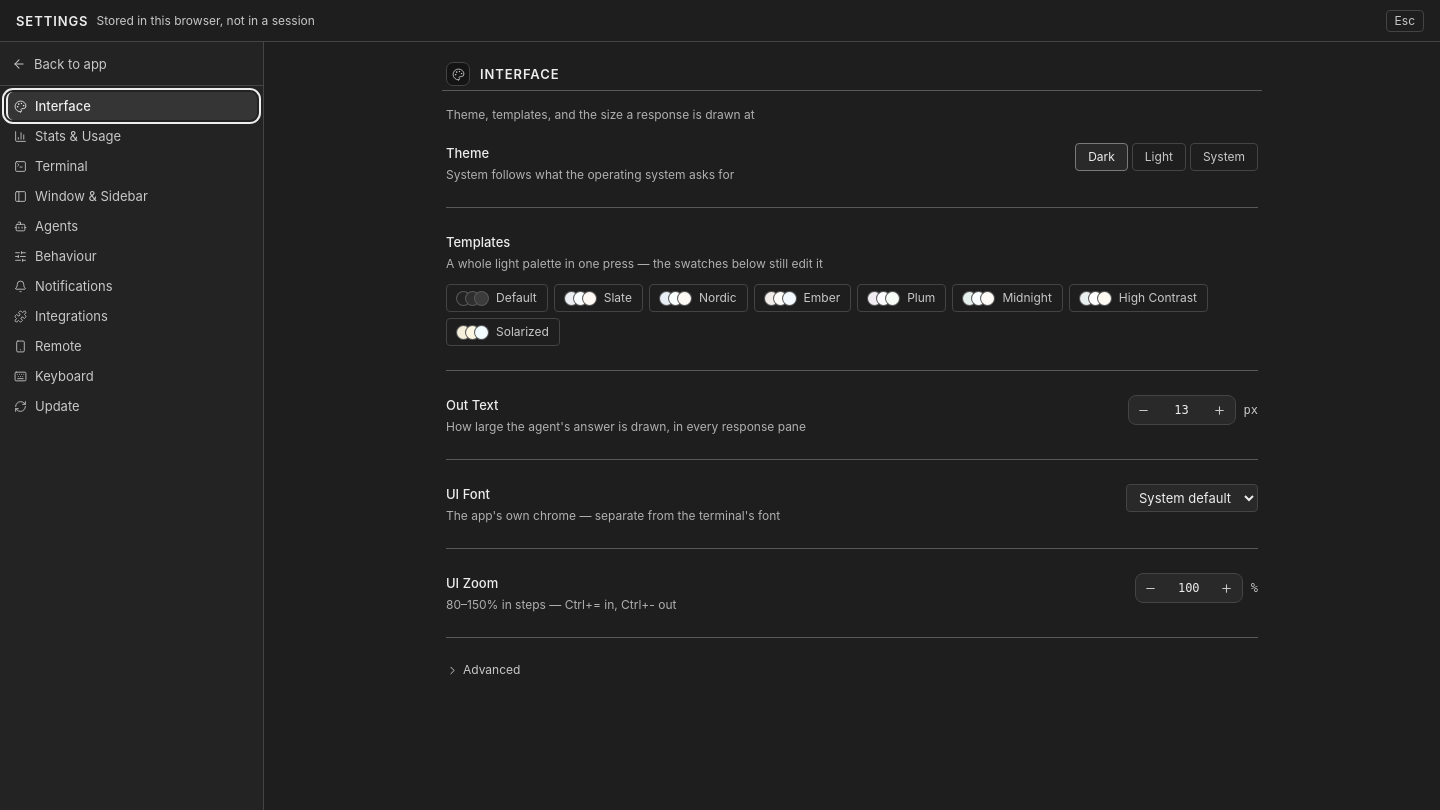
Scenario: the colours section edits the theme in force › names the theme it is editing in the heading
Click the button "Advanced" at (483, 670), box [446, 662, 520, 678]
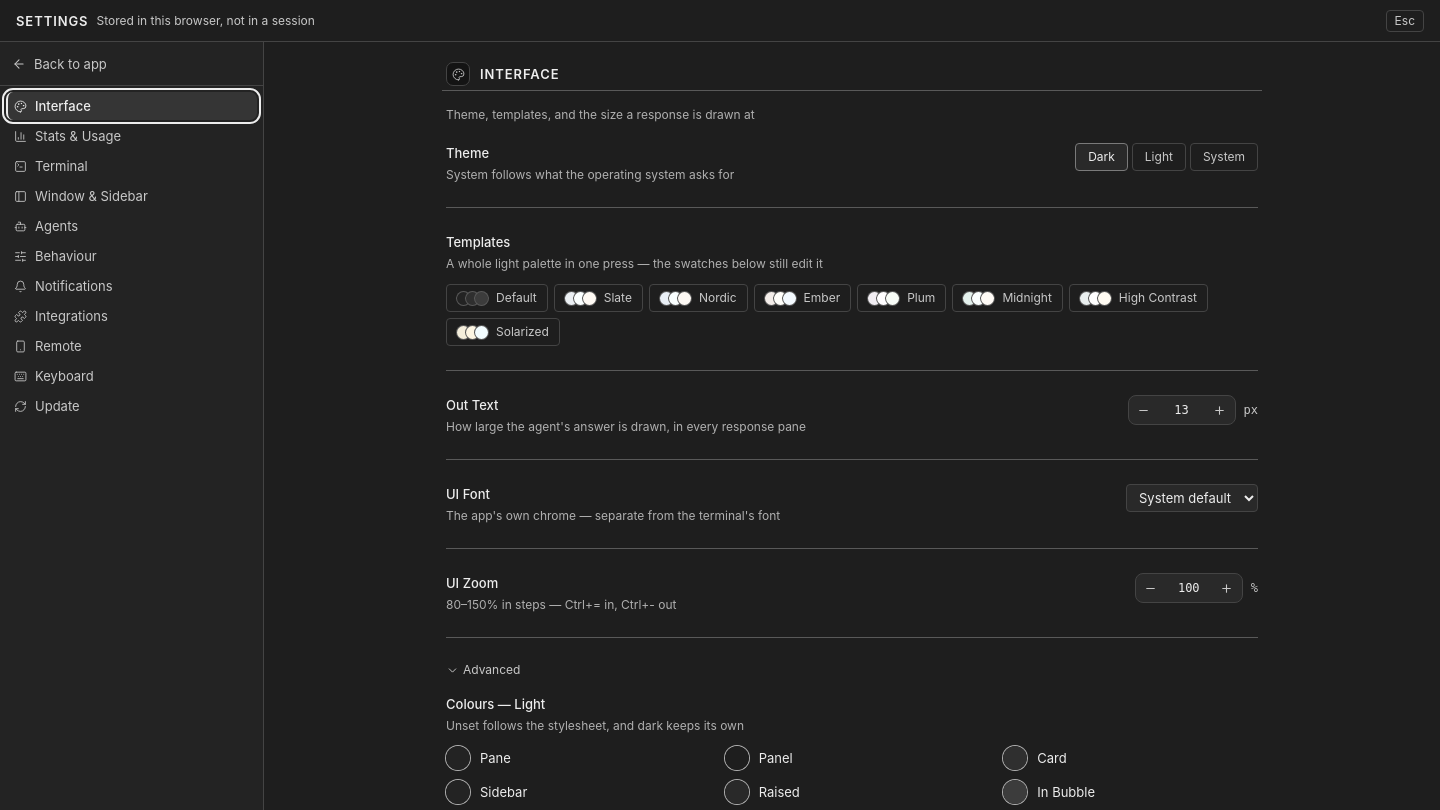
Expected: the heading "colours — light" is shown, [446, 694, 545, 714]
